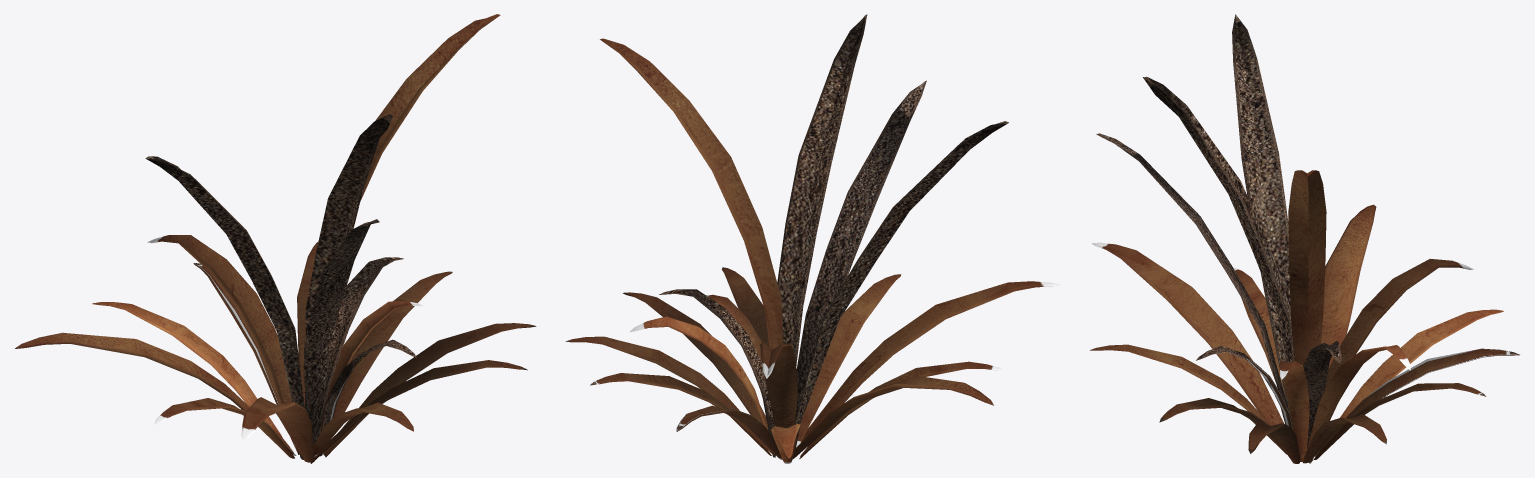
3 views of the same model, side by side, from view 1: azimuth 30°, elevation 25°; view 2: azimuth 150°, elevation 25°; view 3: azimuth 270°, elevation 25° (orthographic). The views are drawn at different scales.
Parts seen in each view (by area): view 1: _Plant_1_1; view 2: _Plant_1_1; view 3: _Plant_1_1.
Boxes of the visible parts, x1,y1,x2,y2 form: _Plant_1_1: (15,14,536,463); _Plant_1_1: (565,14,1059,463); _Plant_1_1: (1090,14,1519,463).
Bounding box in the file's own units: 456 × 386 × 395.
